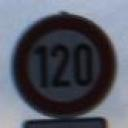speed_limit_120: (10, 10, 120, 120)
